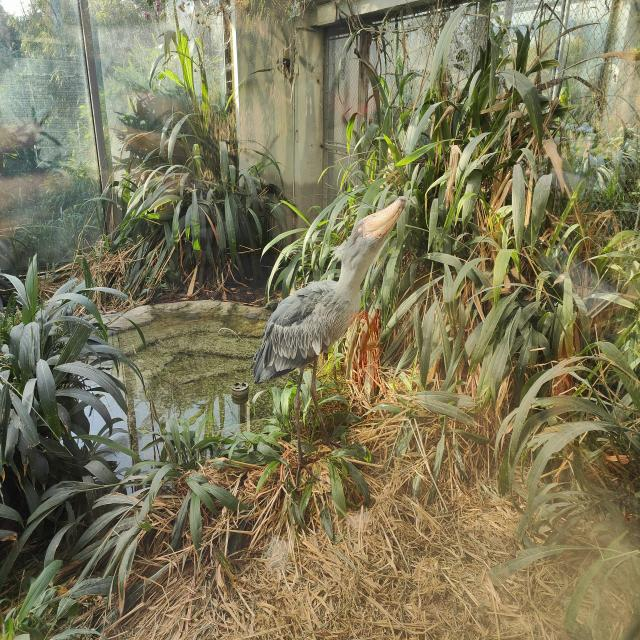bird: (252, 196, 408, 486)
